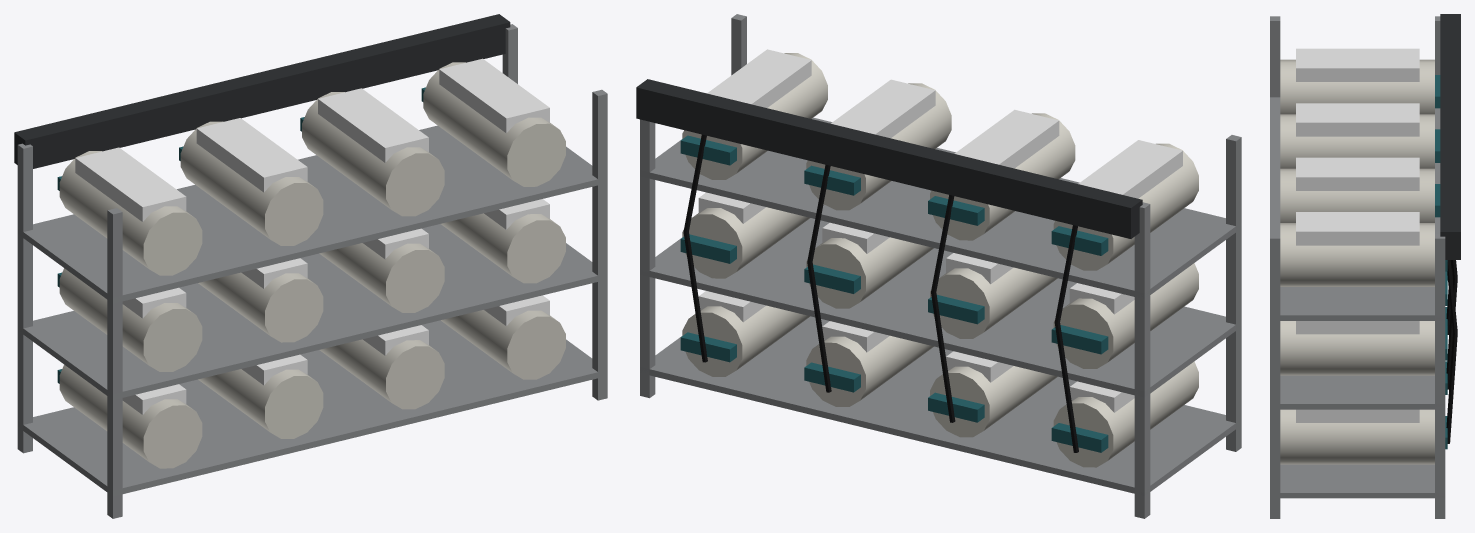
The model's file is cryo-rack.glb.
3 renders of one model, left to right at view 1: azimuth 30°, elevation 25°; view 2: azimuth 150°, elevation 25°; view 3: azimuth 270°, elevation 25°, orthographic. The views are drawn at different scales.
Visible parts, largest first — view 1: Piece_lod0; view 2: Piece_lod0; view 3: Piece_lod0.
Boxes of the visible parts, x1=… form: Piece_lod0: x1=14, y1=14, x2=607, y2=518; Piece_lod0: x1=636, y1=14, x2=1241, y2=518; Piece_lod0: x1=1270, y1=14, x2=1460, y2=518.
Size of what is drawn, in the model's own units: 10.2 by 6.1 by 3.7.
